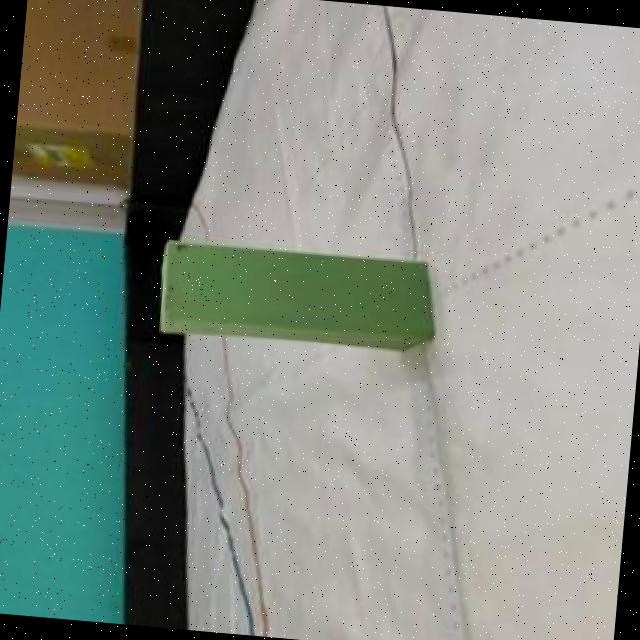greenbox: (159, 240, 444, 354)
